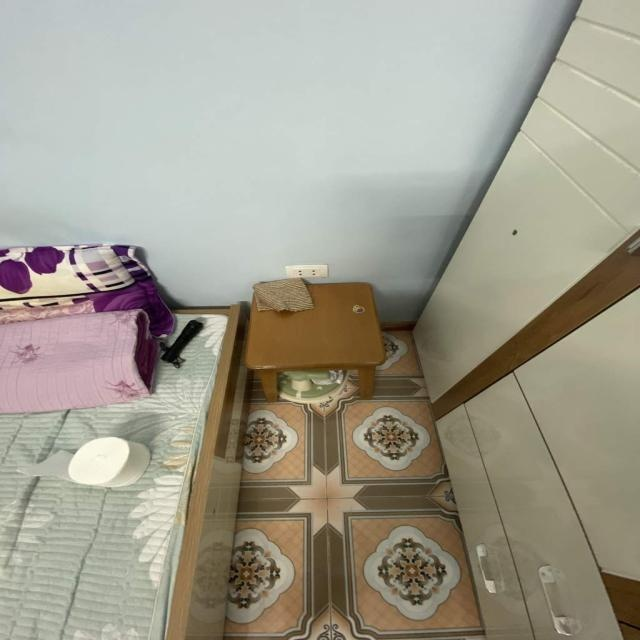outlet: (284, 264, 328, 278)
